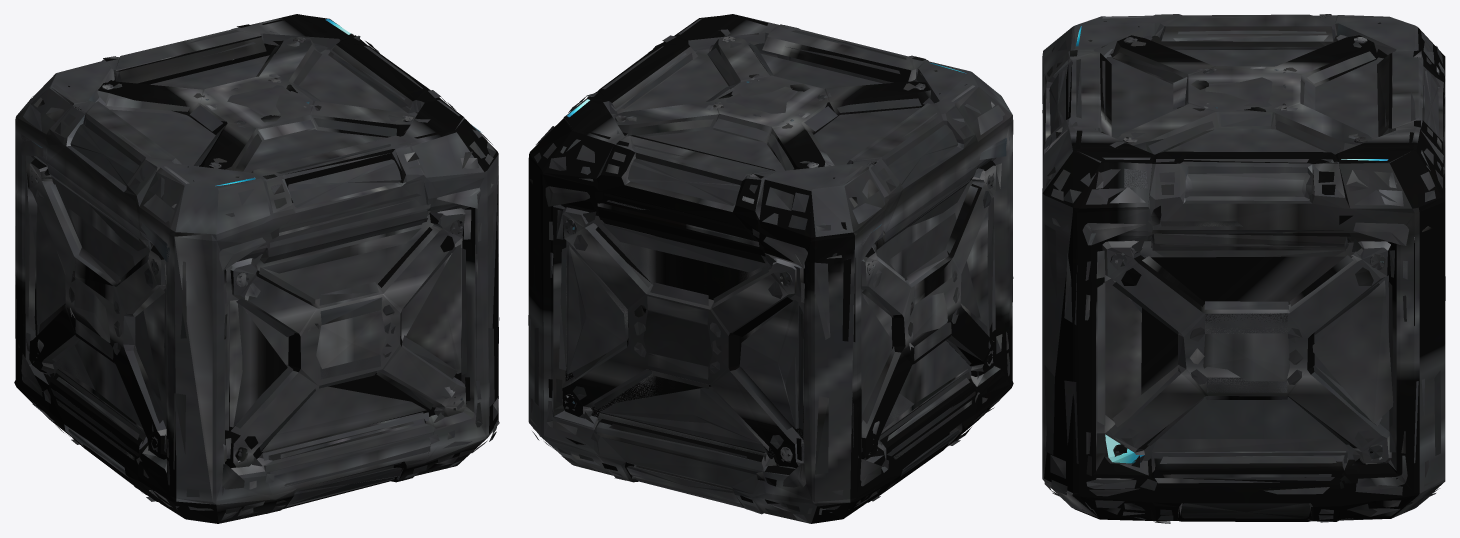
Rendered from crate.glb.
3 views of the same model, side by side, from view 1: azimuth 30°, elevation 25°; view 2: azimuth 150°, elevation 25°; view 3: azimuth 270°, elevation 25° (orthographic). The views are drawn at different scales.
Visible parts, largest first — view 1: mesh_node; view 2: mesh_node; view 3: mesh_node.
Part boxes in pixels (x1,y1,x2,y2): mesh_node: [14, 14, 499, 523]; mesh_node: [528, 14, 1013, 523]; mesh_node: [1042, 14, 1445, 523].
Size of the model in its own units: 1 by 0.9883 by 1.
Materials: 1 (1 with a texture image).
